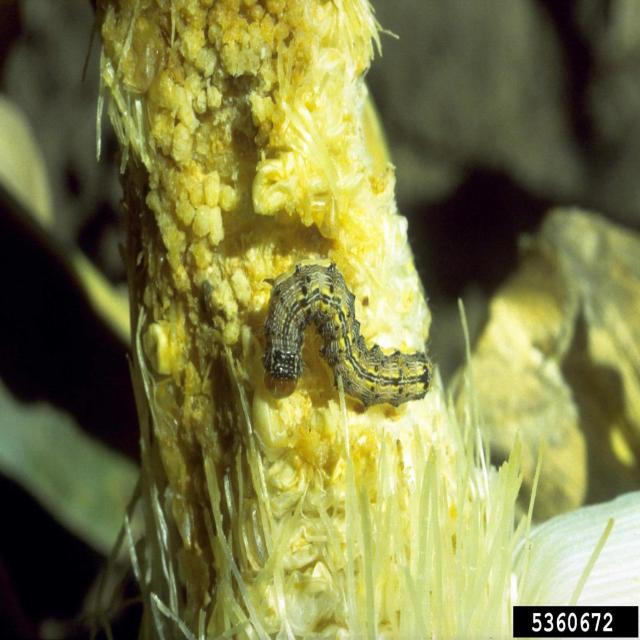Corn-earworm: (265, 252, 435, 419)
